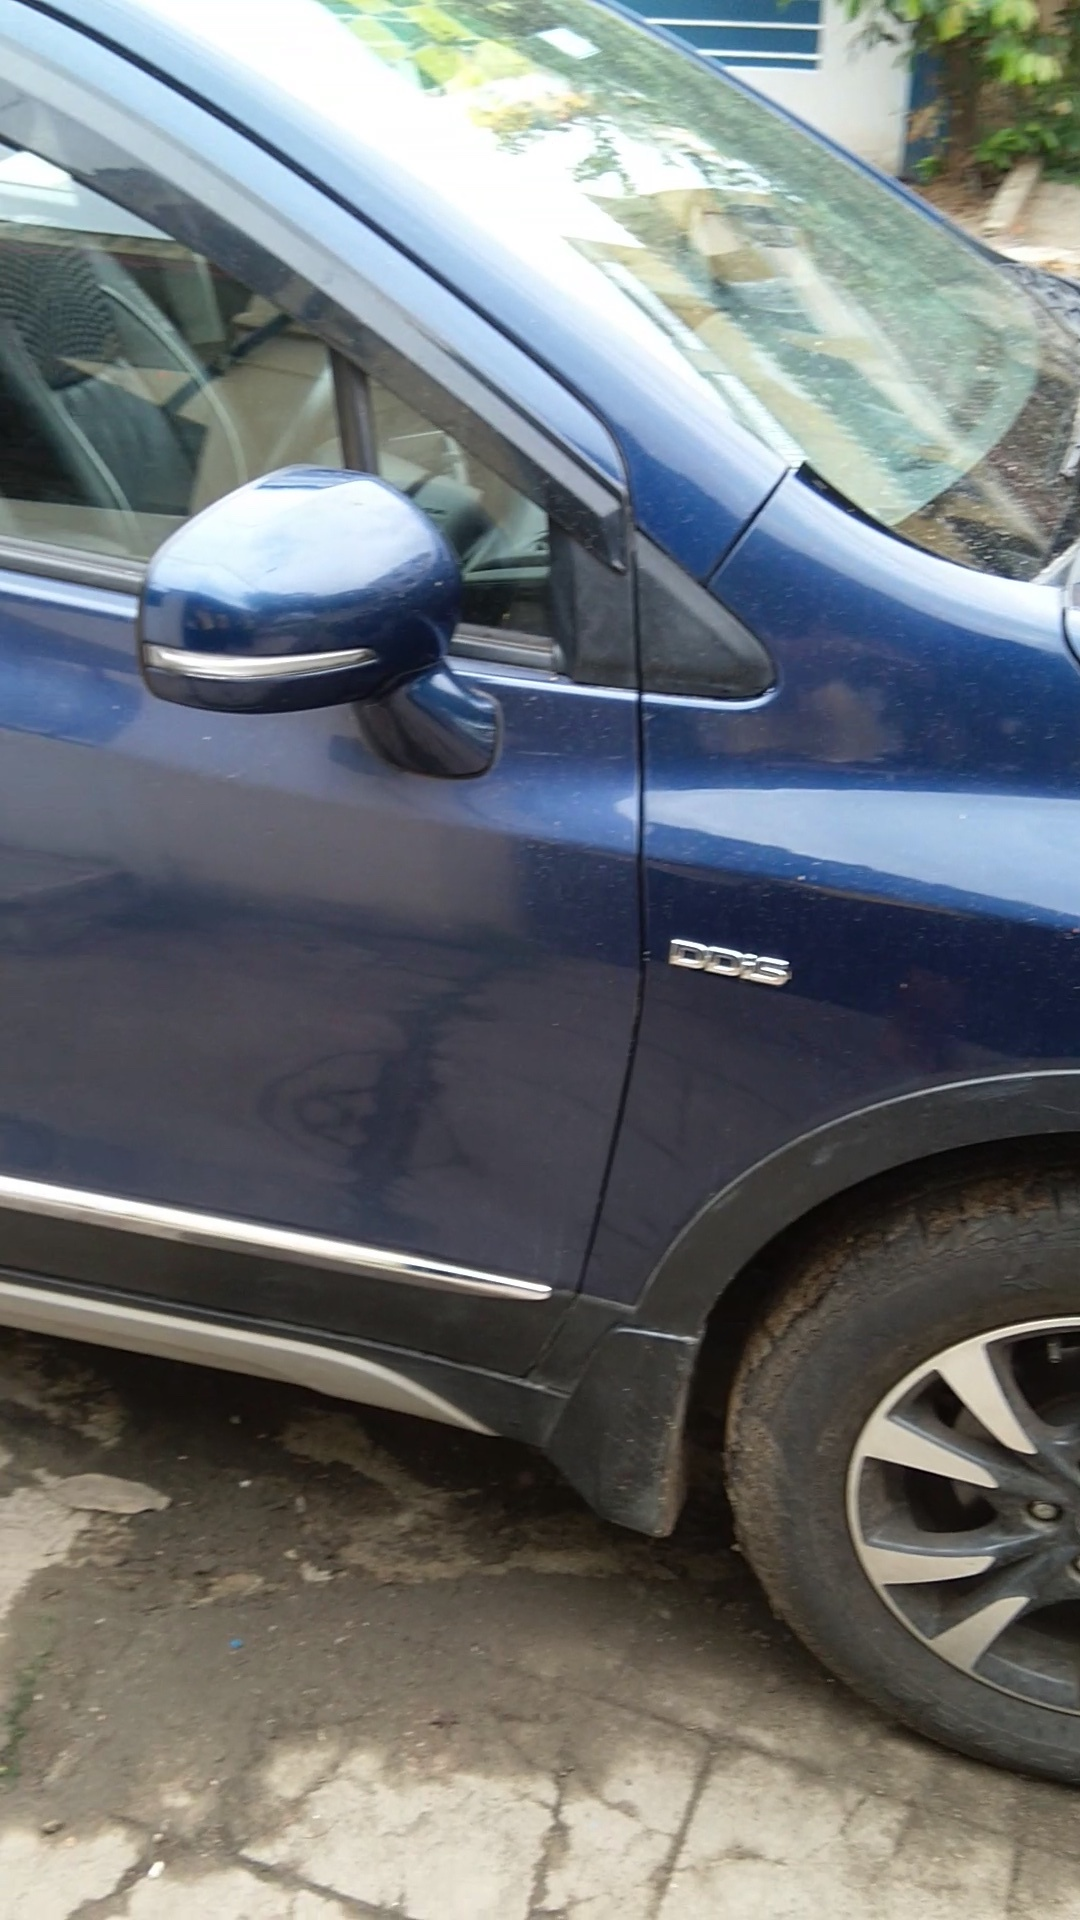ovr_mirror: (121, 444, 526, 807)
